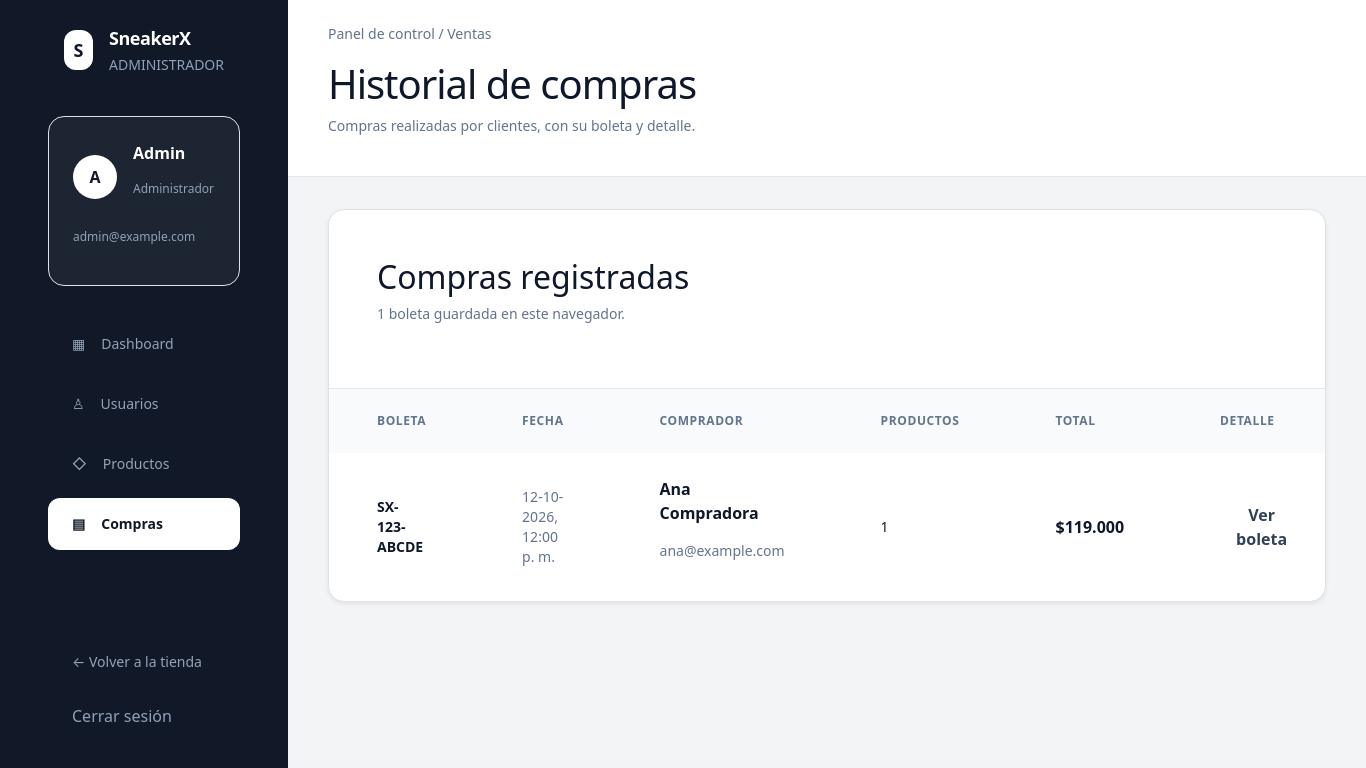
Test: historial de compras del administrador › muestra al comprador y permite abrir el detalle de su boleta
The width and height of the screenshot is (1366, 768).
Expected: the heading "Historial de compras" is shown, [328,60,696,108]
Expected: the text "ana@example.com" is shown, [660,541,785,561]
Click the button "Ver boleta".
click(1262, 527)  # box [1220,495,1303,559]
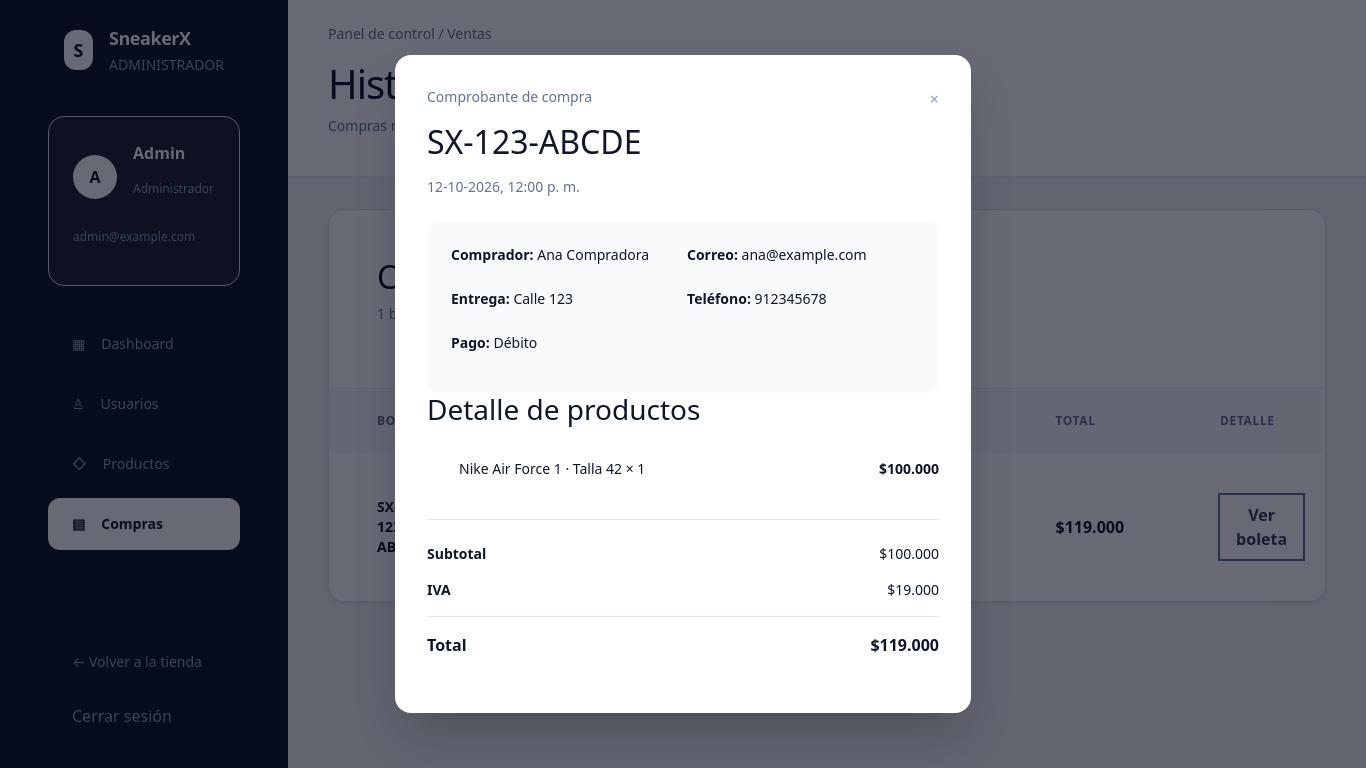
Result: the dialog is shown
Result: the heading "SX-123-ABCDE" is shown at [427,123,642,161]
Result: the text "Nike Air Force 1 · Talla 42 × 1" is shown at [459,459,645,479]
